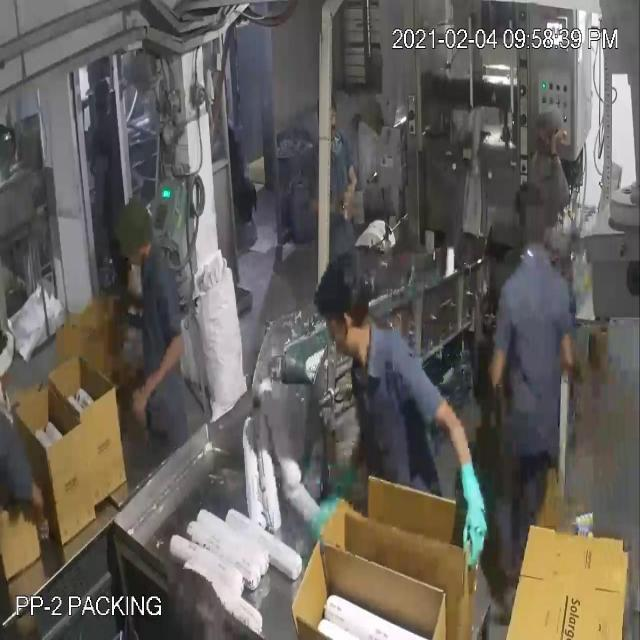No_Gloves: (22, 76, 455, 508)
